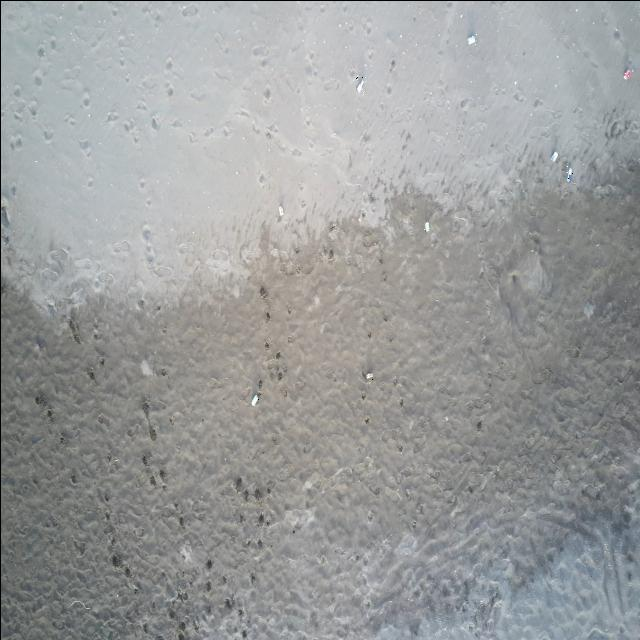Garbage: (583, 301, 593, 318), (355, 75, 364, 92), (252, 392, 259, 406), (467, 32, 475, 44), (623, 70, 632, 79), (567, 168, 572, 181), (364, 372, 372, 380), (278, 204, 283, 216), (550, 152, 557, 160), (424, 220, 427, 232)
